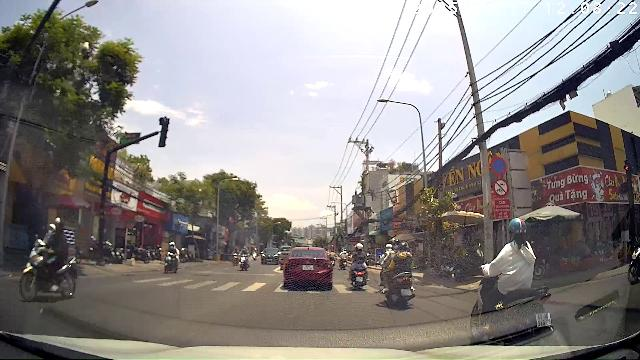131a-cam-do-xe: (491, 156, 507, 176)
